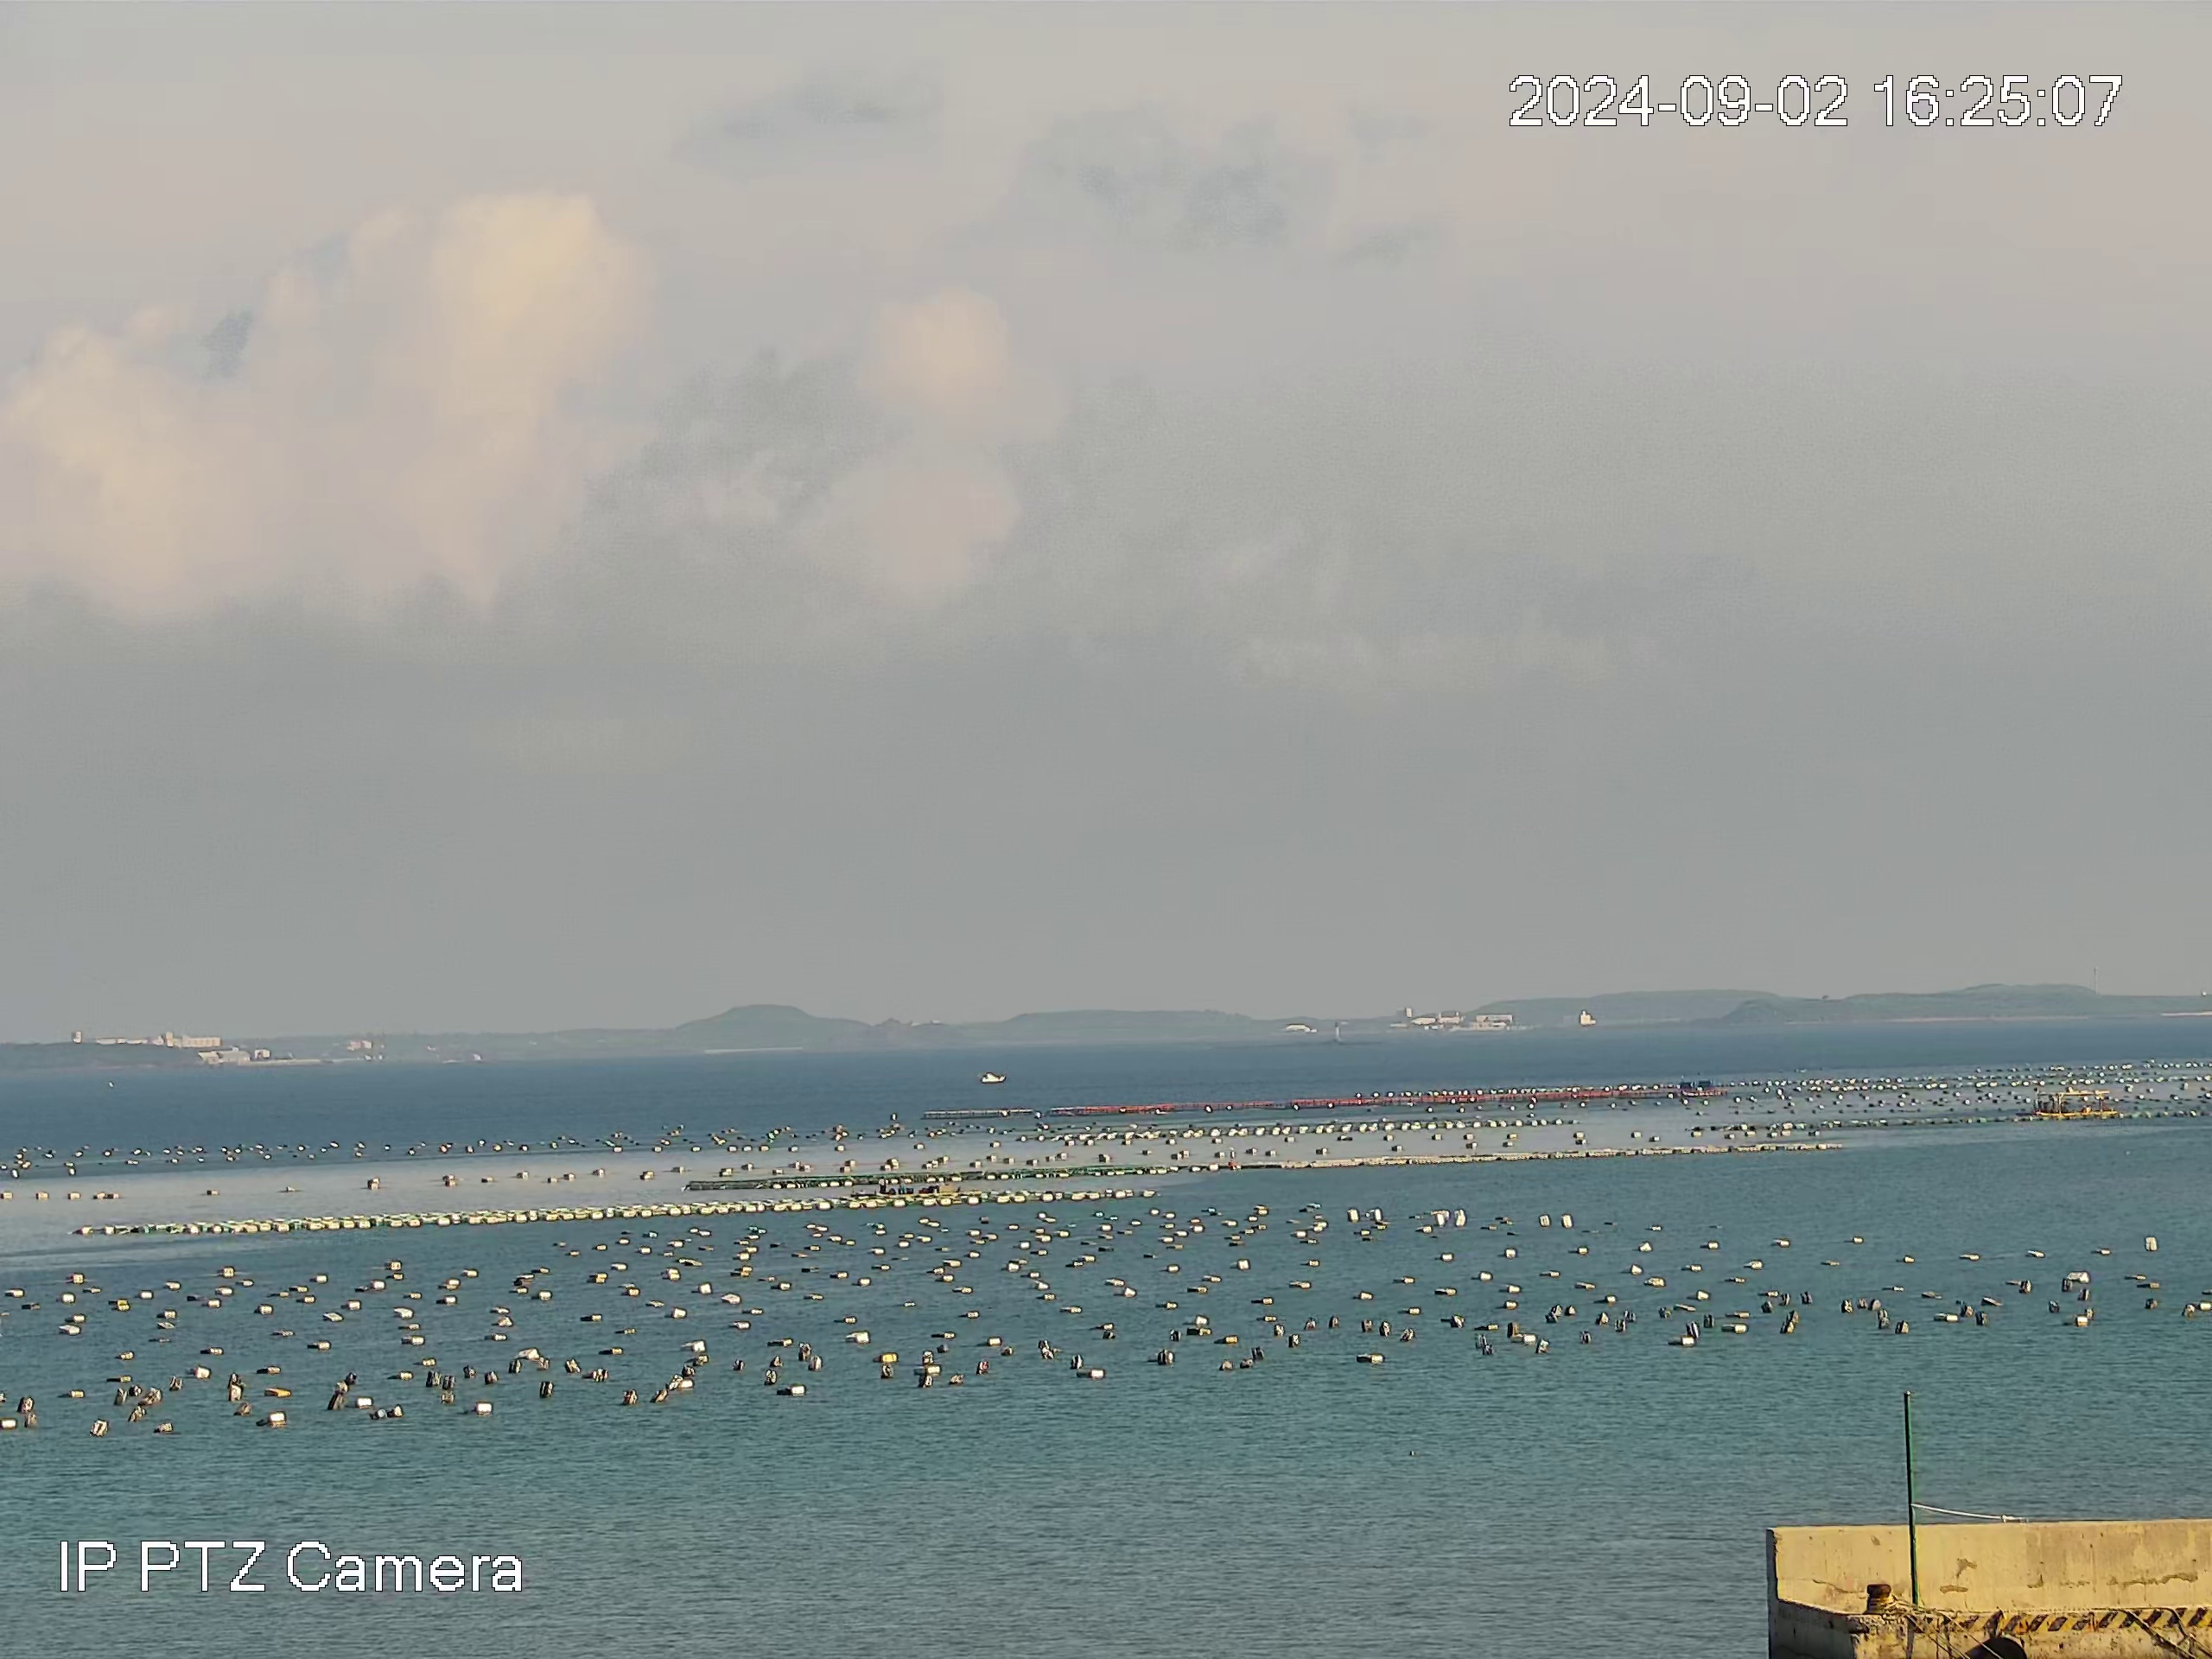boat: (2033, 1086, 2118, 1121), (874, 1175, 982, 1199), (979, 1070, 1007, 1086)
